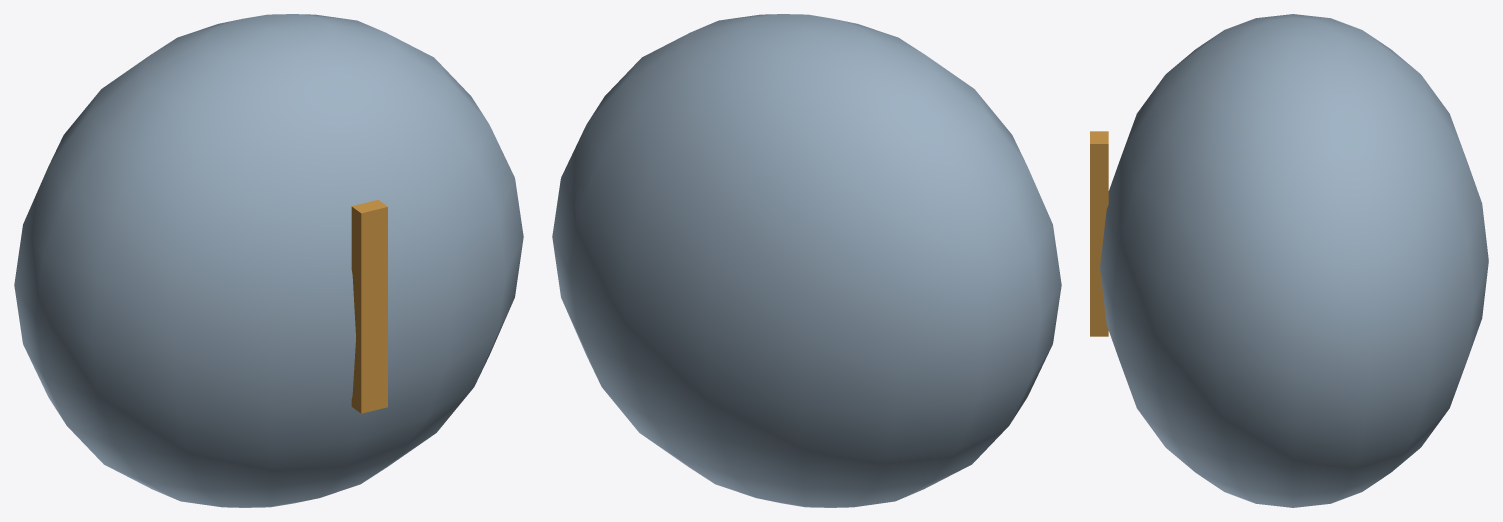
The model's file is armor_plate.glb.
The picture shows the model from 3 angles, left to right: view 1: azimuth 30°, elevation 25°; view 2: azimuth 150°, elevation 25°; view 3: azimuth 270°, elevation 25°; orthographic projection. The views are drawn at different scales.
Parts seen in each view (by area): view 1: TorsoShell, BreastplateRidge; view 2: TorsoShell; view 3: TorsoShell, BreastplateRidge.
Boxes of the visible parts, left/top/right/bottom form: TorsoShell: left=14, top=14, right=523, bottom=507; BreastplateRidge: left=351, top=200, right=387, bottom=413; TorsoShell: left=552, top=14, right=1061, bottom=507; TorsoShell: left=1100, top=14, right=1488, bottom=507; BreastplateRidge: left=1090, top=131, right=1108, bottom=336.
Size of the model in its own units: 0.61 by 0.576 by 0.469.
